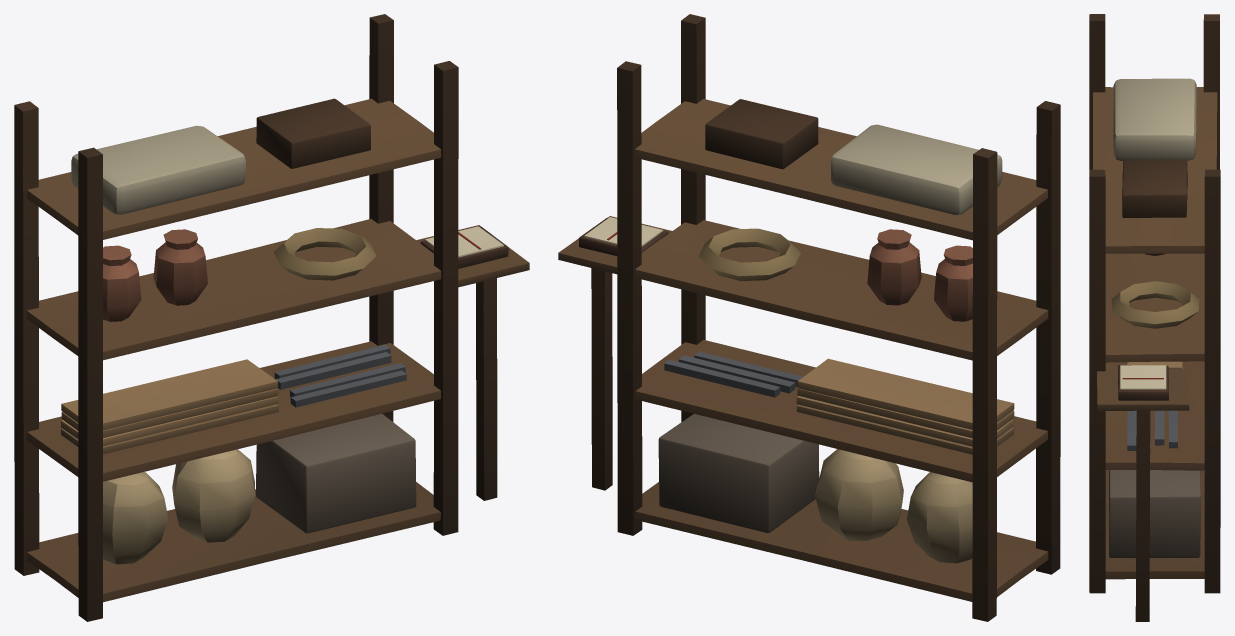
File: ph_int_shed_rack.glb
3 views of the same model, side by side, from view 1: azimuth 30°, elevation 25°; view 2: azimuth 150°, elevation 25°; view 3: azimuth 270°, elevation 25° (orthographic). The views are drawn at different scales.
Visible parts, largest first — view 1: ph_int_shed_rack; view 2: ph_int_shed_rack; view 3: ph_int_shed_rack.
Part boxes in pixels (<box>): ph_int_shed_rack: <box>14,14,529,621</box>; ph_int_shed_rack: <box>558,14,1060,621</box>; ph_int_shed_rack: <box>1089,14,1220,621</box>.
Bounding box in the file's own units: 2.02 × 2 × 0.5728.
